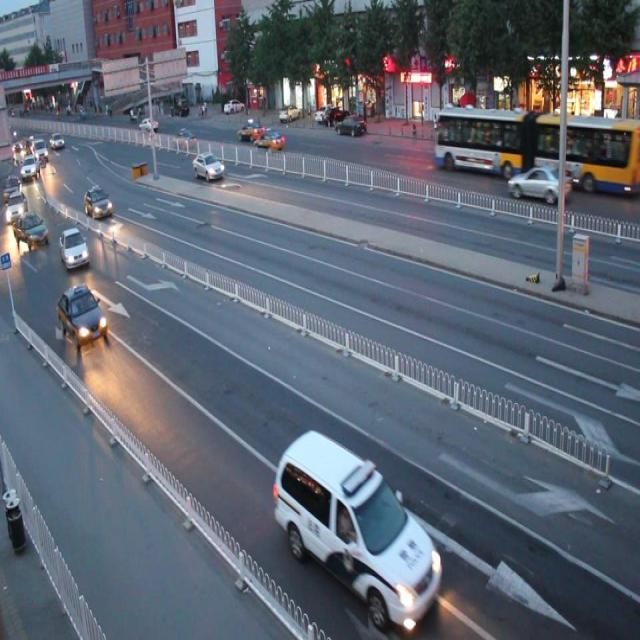car: (274, 428, 440, 628), (59, 284, 108, 348), (507, 167, 569, 203), (192, 150, 223, 182), (256, 129, 286, 151), (238, 119, 266, 142)
van: (433, 105, 640, 194)
